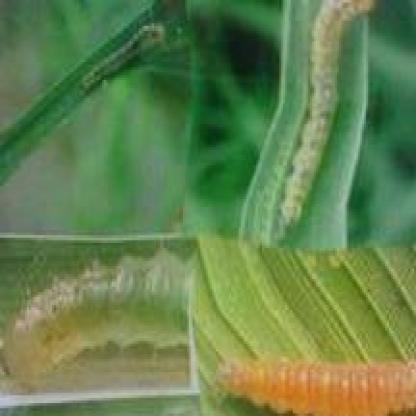leaf-folder: (8, 250, 191, 377), (282, 1, 376, 225), (210, 338, 416, 416), (80, 15, 170, 98)
